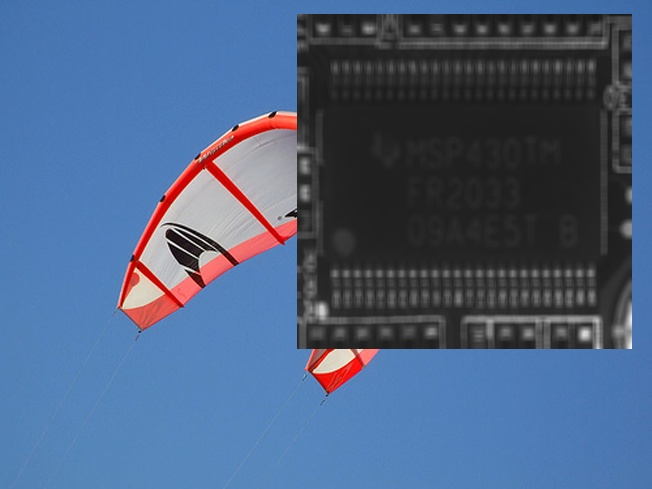PIN: (316, 54, 607, 118), (315, 249, 607, 312)
kite: (121, 112, 435, 400)
